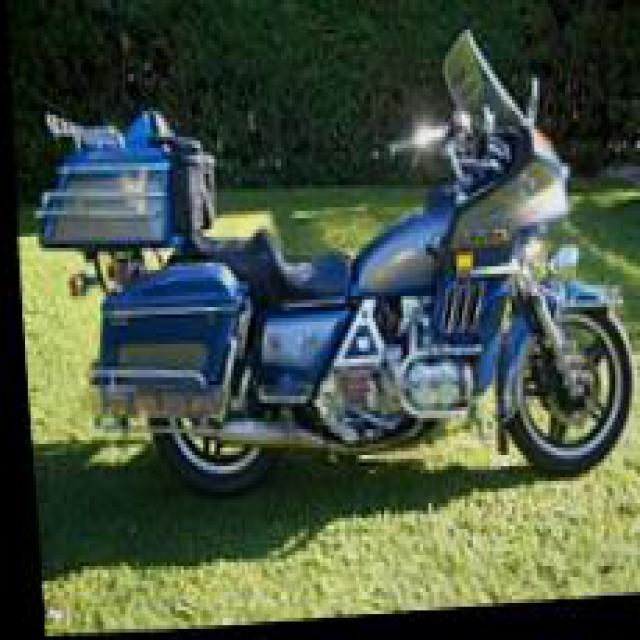Gold Wing: (22, 11, 637, 522)
